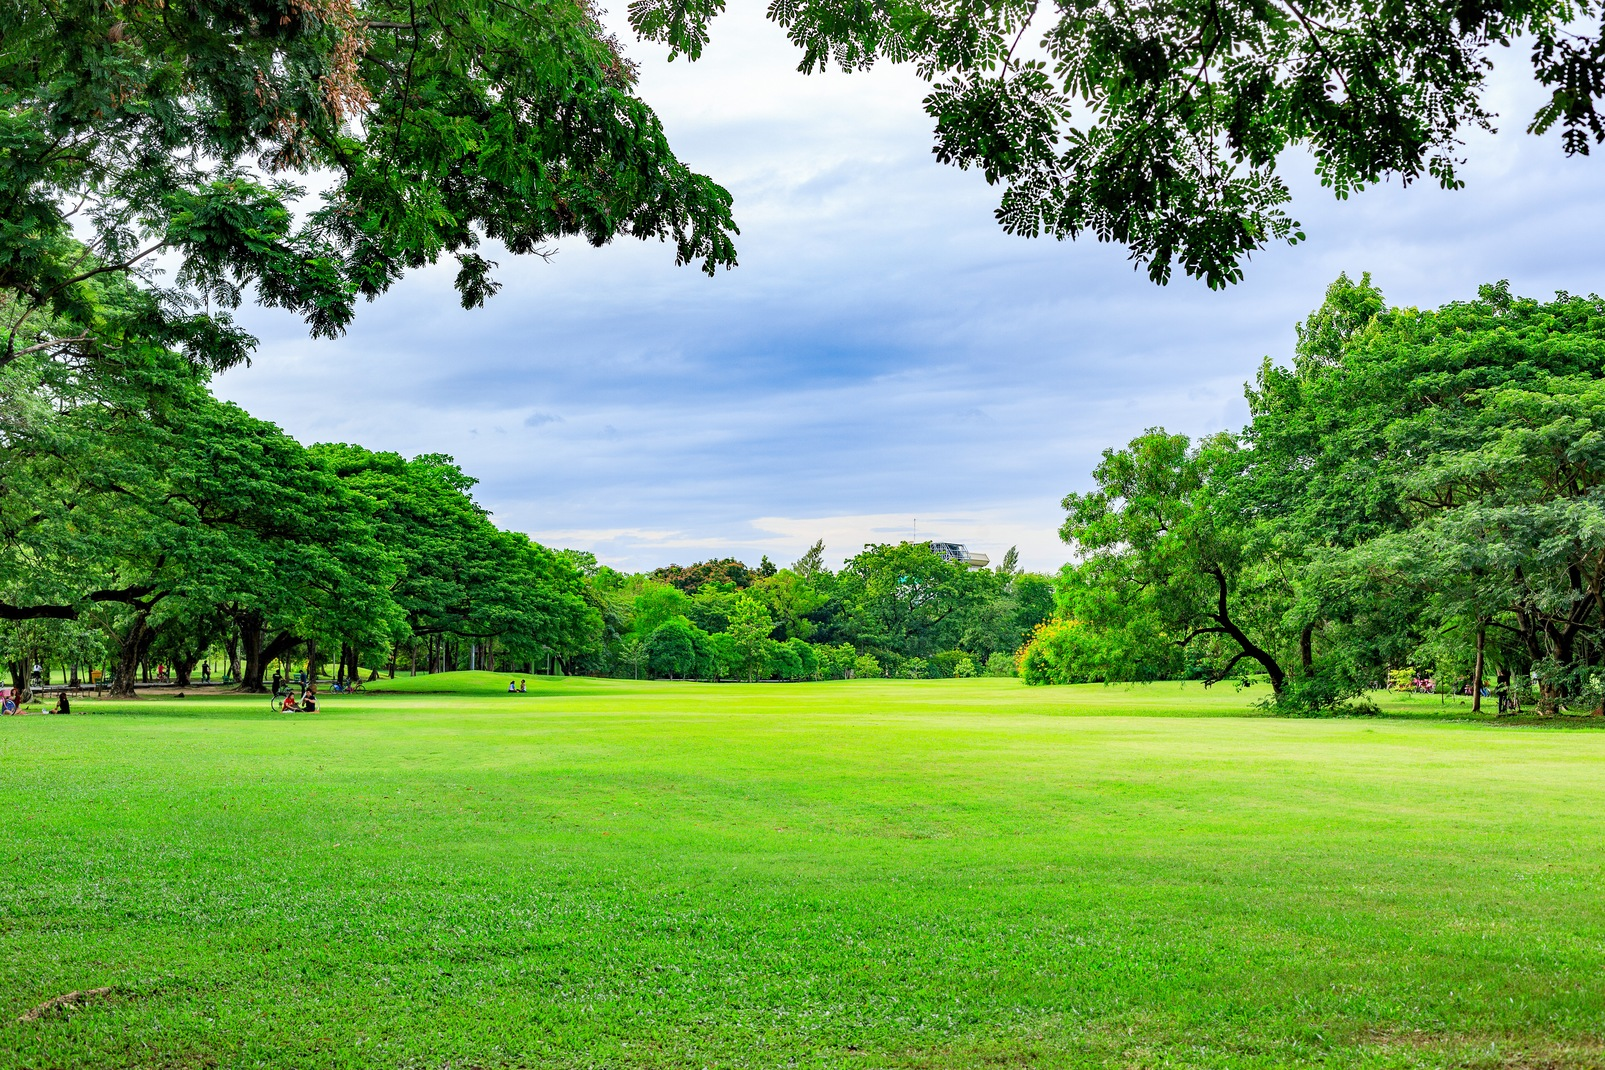grass: (1, 739, 1605, 1066)
